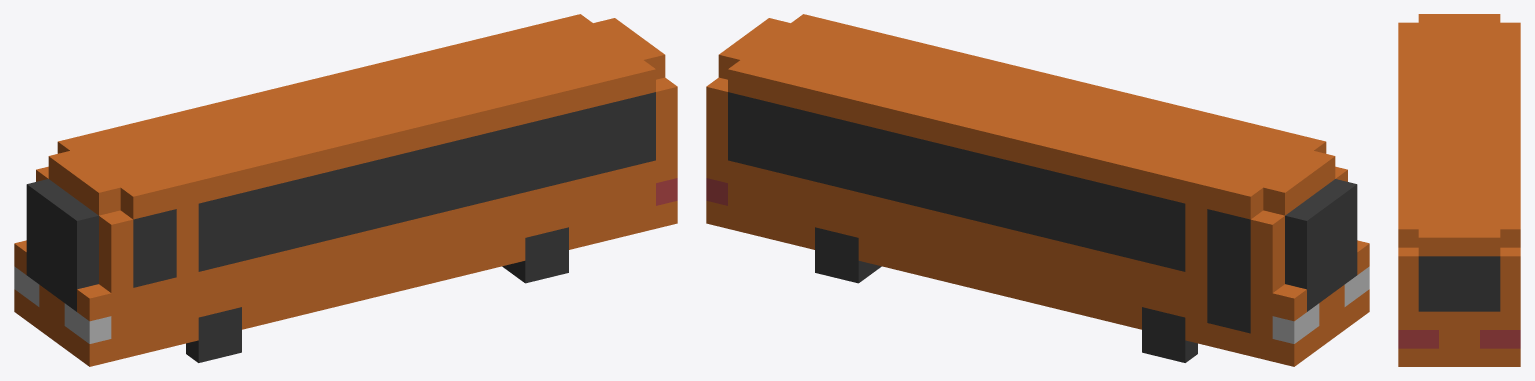
The model's file is bus-big-orange.gltf.
3 views of the same model, side by side, from view 1: azimuth 30°, elevation 25°; view 2: azimuth 150°, elevation 25°; view 3: azimuth 270°, elevation 25° (orthographic). The views are drawn at different scales.
Parts seen in each view (by area): view 1: model, wheels; view 2: model, wheels; view 3: model.
Boxes of the visible parts, x1,y1,x2,y2 form: model: (14,14,677,366); wheels: (186,227,568,362); model: (706,14,1369,366); wheels: (815,227,1197,362); model: (1398,14,1520,366).
Size of the model in its own units: 2.7 by 0.8 by 0.6.
2 materials, 2 textured.
